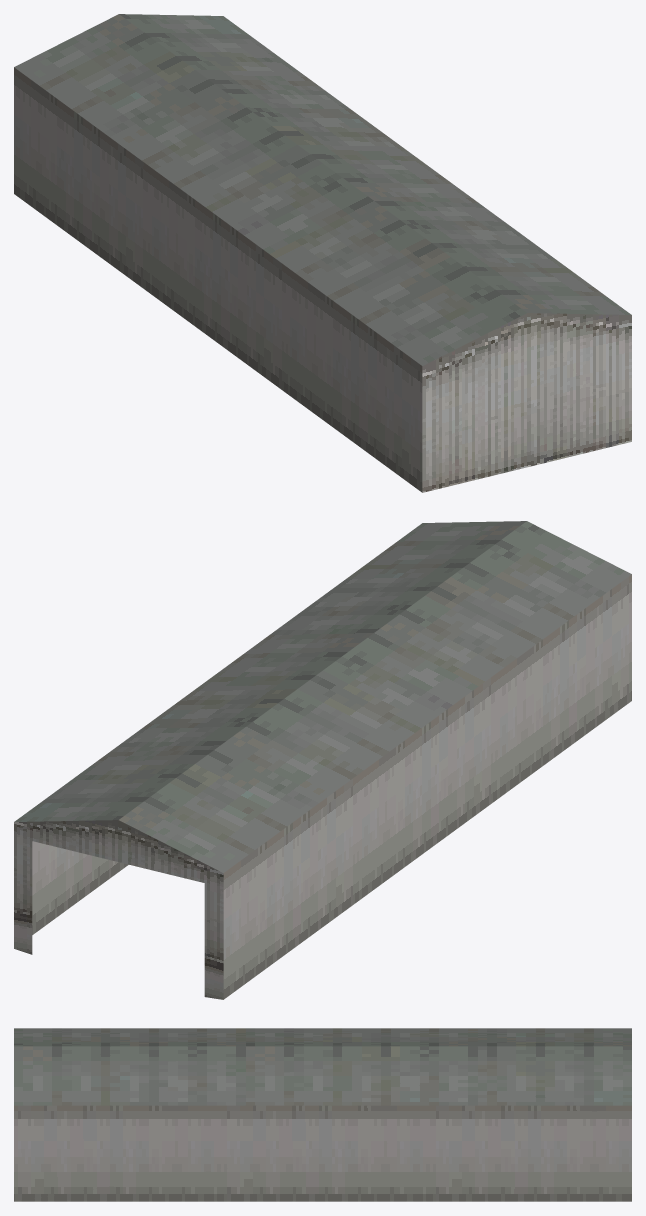
The model's file is lodrailbuild04.obj.
3 views of the same model, one above another, from view 1: azimuth 30°, elevation 25°; view 2: azimuth 150°, elevation 25°; view 3: azimuth 270°, elevation 25° (orthographic). The views are drawn at different scales.
Visible parts, largest first — view 1: lodrailbuild04; view 2: lodrailbuild04; view 3: lodrailbuild04.
Boxes of the visible parts, left/top/right/bottom form: lodrailbuild04: left=14, top=14, right=631, bottom=492; lodrailbuild04: left=14, top=521, right=631, bottom=999; lodrailbuild04: left=14, top=1028, right=631, bottom=1201.
Bounding box in the file's own units: 11.66 × 8.29 × 39.37.
Materials: 2 (2 with a texture image).
